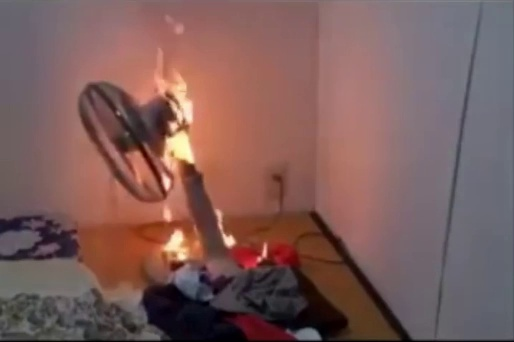fire: (153, 43, 205, 169)
